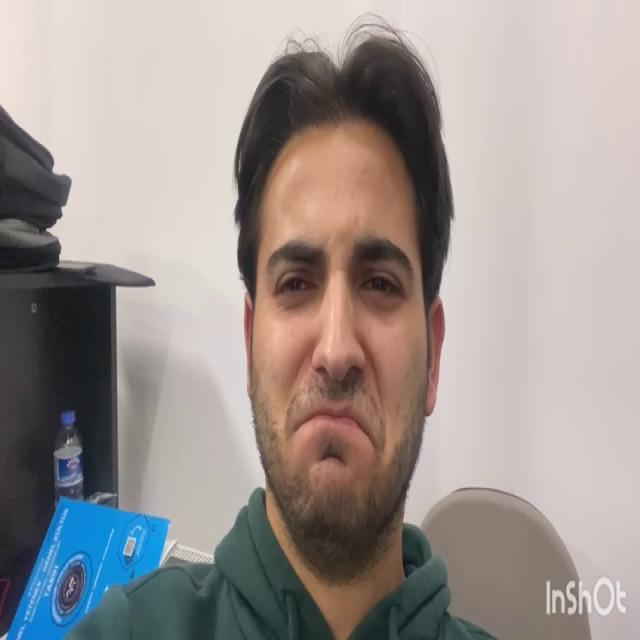sad: (242, 110, 438, 556)
